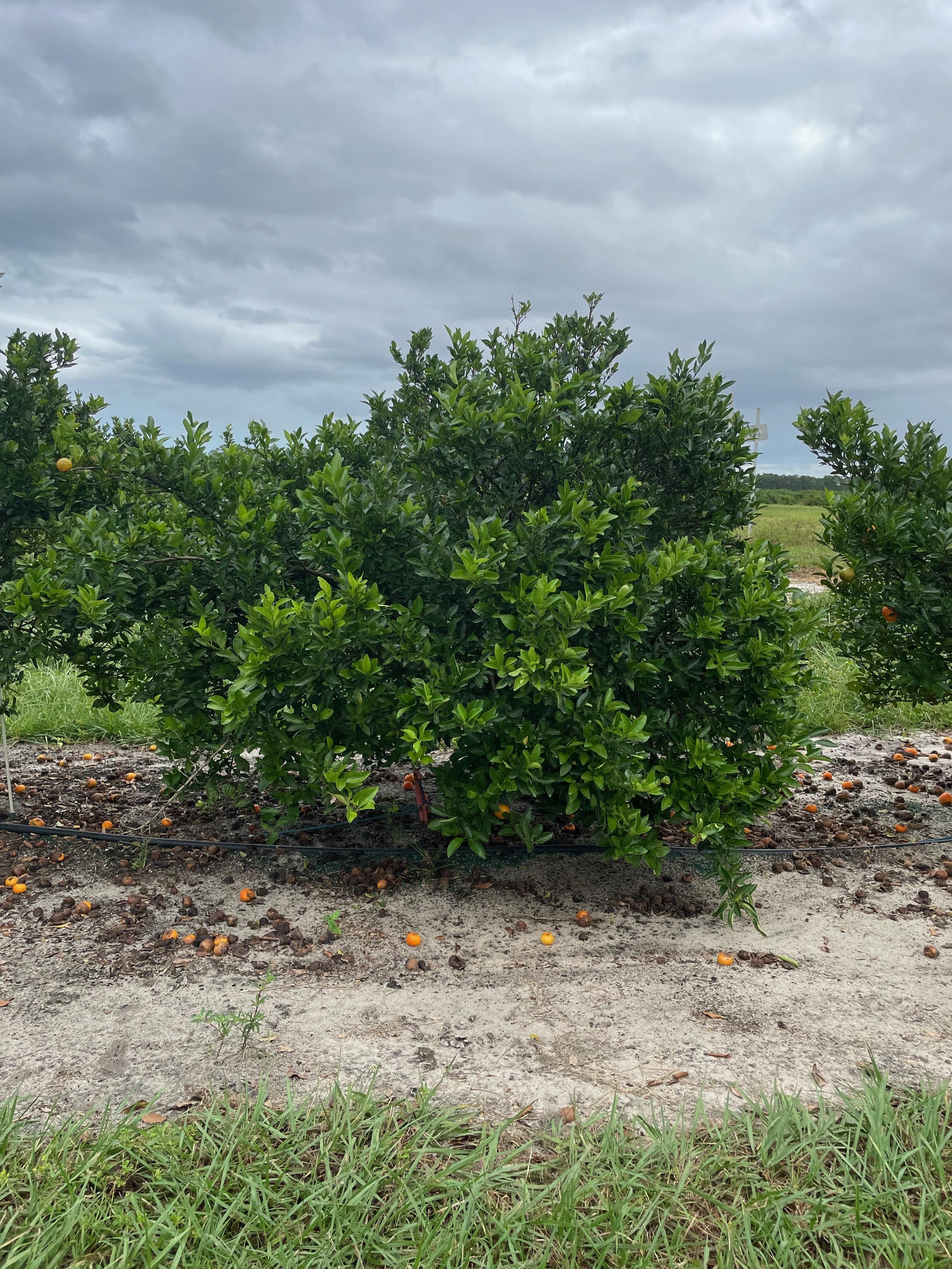fruit_on_ground: (879, 602, 901, 624), (492, 800, 513, 820), (858, 524, 879, 544), (55, 455, 75, 475), (837, 565, 857, 584), (70, 650, 90, 667)
fruit_on_tree: (574, 908, 593, 926), (716, 949, 734, 966), (212, 941, 230, 957), (933, 866, 950, 882), (406, 931, 423, 947), (198, 939, 216, 954), (213, 933, 229, 949), (539, 931, 555, 947), (922, 944, 939, 959), (239, 886, 256, 901), (3, 874, 19, 889), (75, 899, 92, 913), (937, 792, 952, 807), (127, 892, 143, 906), (404, 956, 419, 970), (182, 932, 197, 946), (265, 907, 281, 920), (12, 881, 28, 894), (12, 863, 27, 876), (163, 928, 178, 941), (898, 808, 914, 820), (29, 815, 45, 827), (514, 919, 528, 932), (100, 818, 114, 831), (375, 877, 389, 890), (562, 821, 577, 833), (835, 790, 850, 802), (181, 895, 194, 908), (160, 815, 173, 828), (893, 821, 907, 833), (121, 876, 135, 888), (904, 746, 919, 757), (940, 734, 952, 747), (836, 829, 849, 841), (852, 776, 865, 788), (402, 772, 415, 784), (932, 785, 945, 796), (125, 770, 138, 781), (821, 770, 834, 781), (841, 779, 854, 790), (892, 751, 906, 761), (299, 804, 311, 815), (681, 872, 693, 883), (285, 873, 297, 884), (894, 779, 906, 790), (14, 783, 26, 794), (402, 780, 414, 791), (908, 782, 920, 793), (85, 776, 97, 787), (805, 802, 817, 813), (760, 837, 773, 847), (927, 752, 940, 762), (251, 802, 262, 813), (55, 851, 66, 862), (245, 822, 257, 832), (36, 752, 47, 762), (895, 801, 907, 810), (0, 780, 9, 792), (82, 752, 93, 761), (92, 754, 102, 763), (119, 857, 129, 866), (109, 793, 119, 802), (742, 825, 752, 834), (58, 759, 68, 767), (148, 744, 158, 752)
